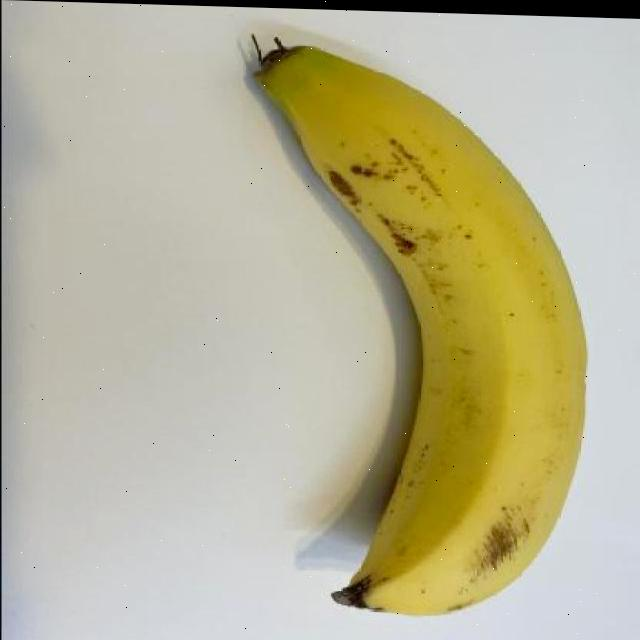banana: (256, 45, 590, 620)
